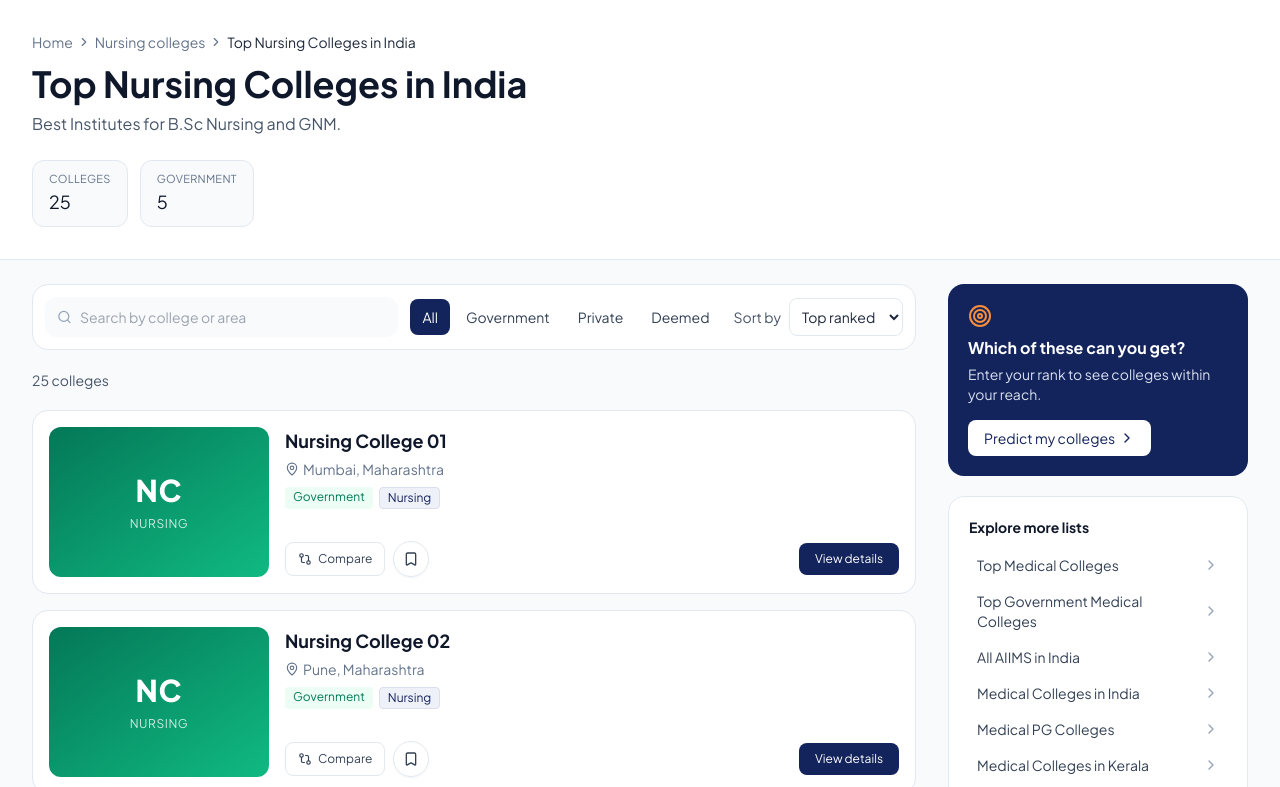
Test case: CollegeListPage › searches and filters the whole list on the server, and can clear them
Expected: the text "25 colleges" is shown, [32,370,109,388]
Expected: the text "25" is shown, [49,190,71,212]
Click the button "Government".
click(508, 316)  # box [454,298,562,334]
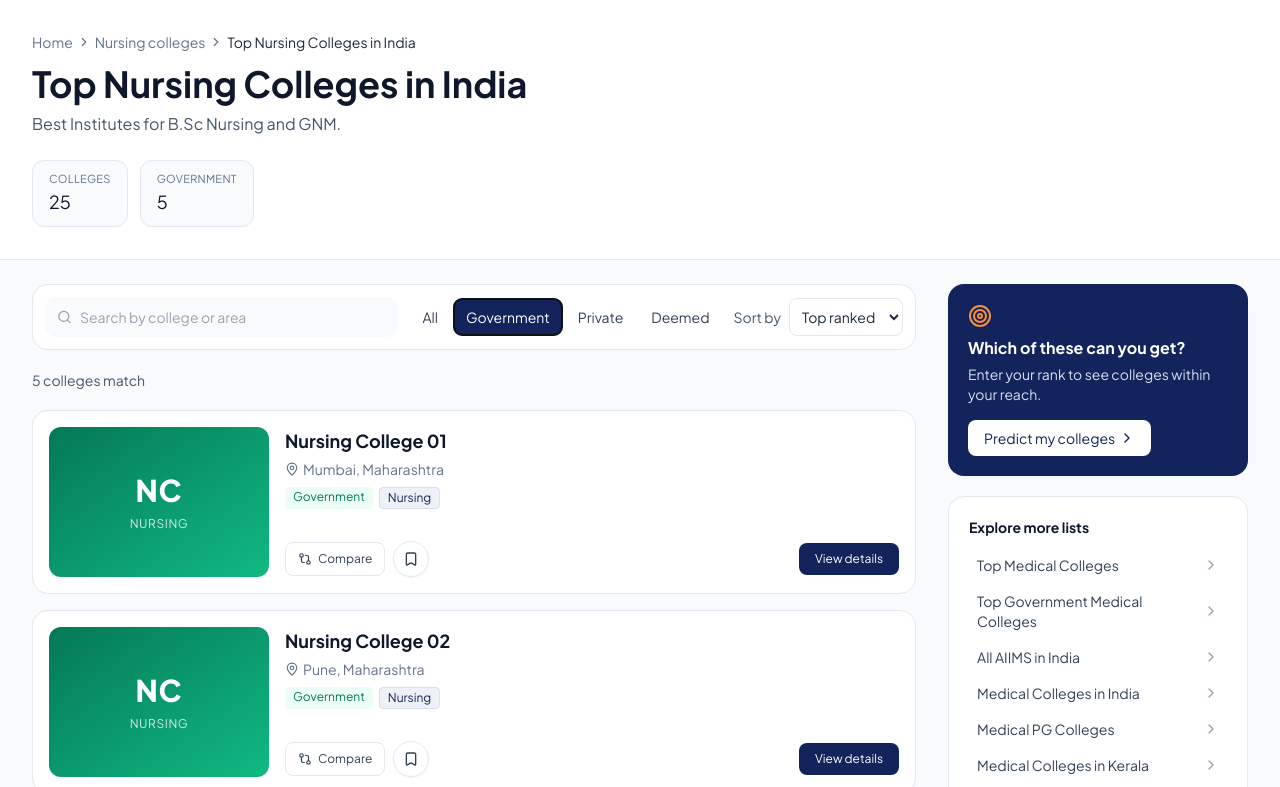
Result: the text "5 colleges match" is shown at [32,370,145,388]
Type "zzz" into the search field named "search this list".
click(233, 316); type("zzz")  # box [80,296,386,336]
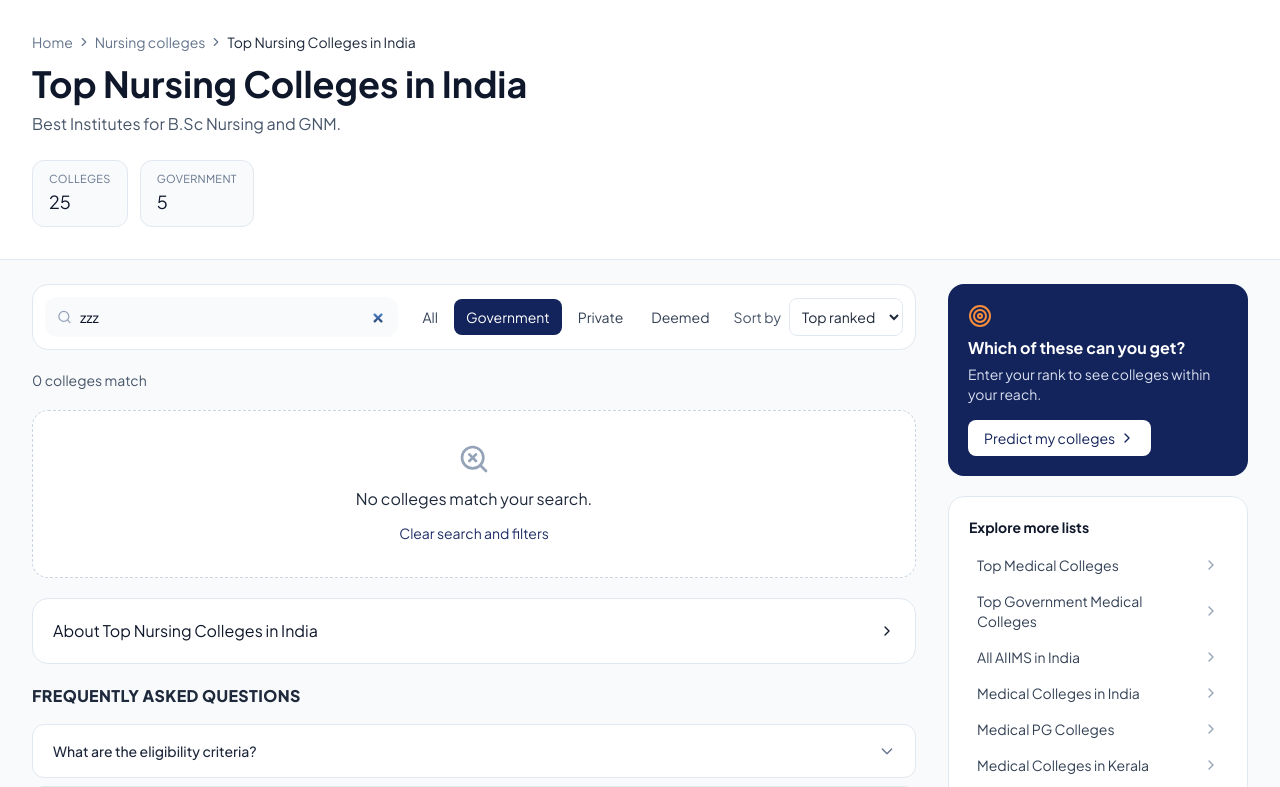
Result: the text "No colleges match your search." is shown at [356,488,592,508]
Click the button "Clear search and filters".
click(474, 532)  # box [399,522,549,542]
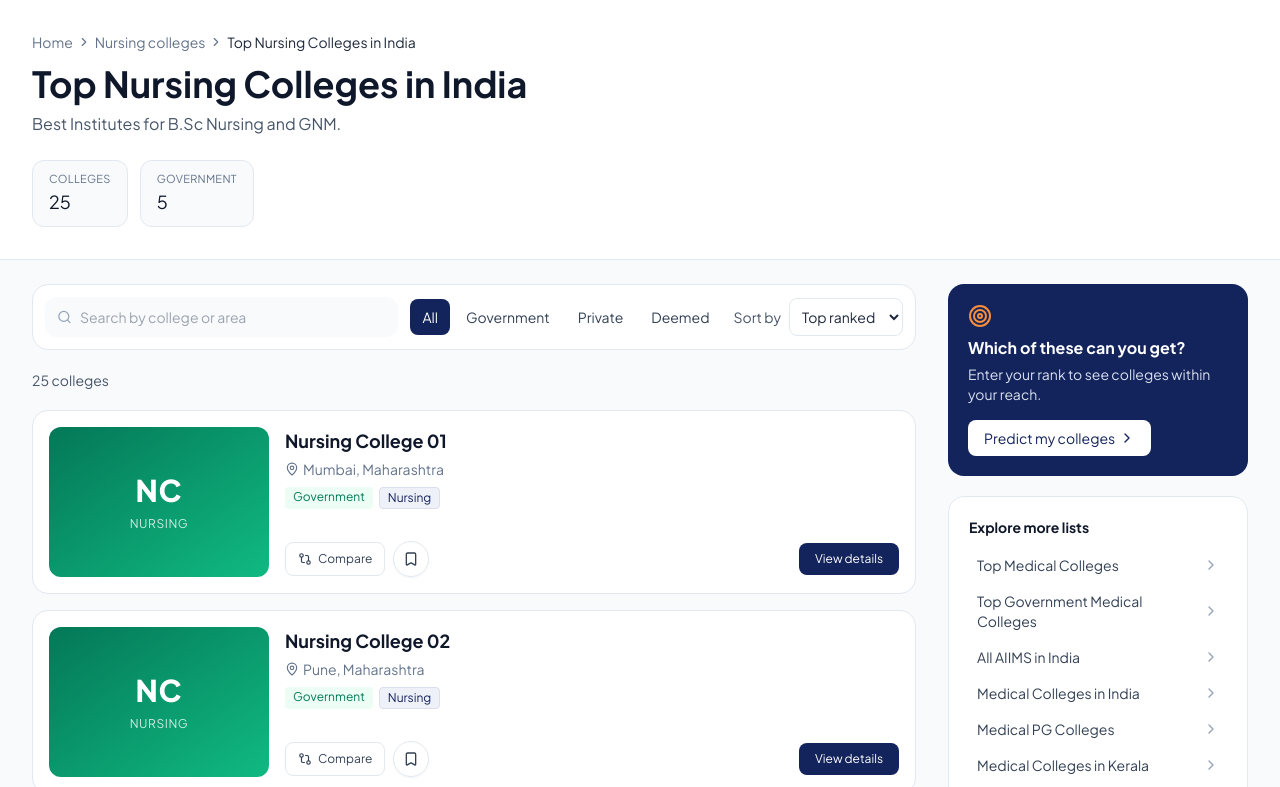
Result: the text "25 colleges" is shown at [32,370,109,388]
